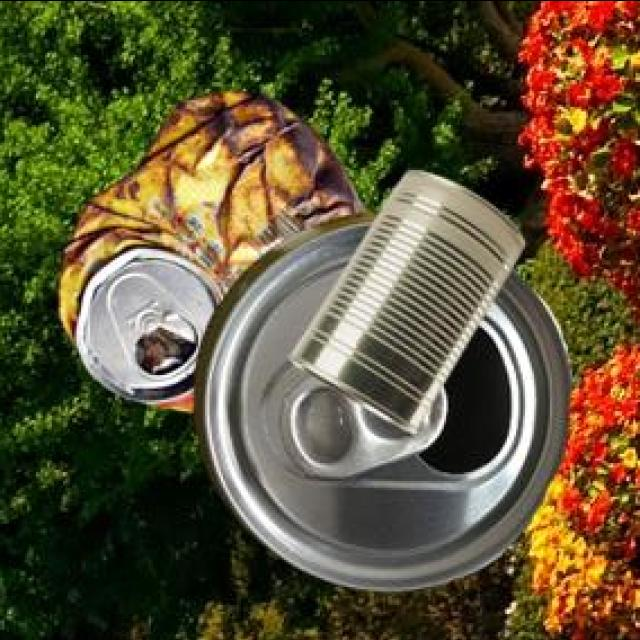logam: (190, 208, 569, 587), (55, 87, 362, 407), (287, 166, 522, 429)
